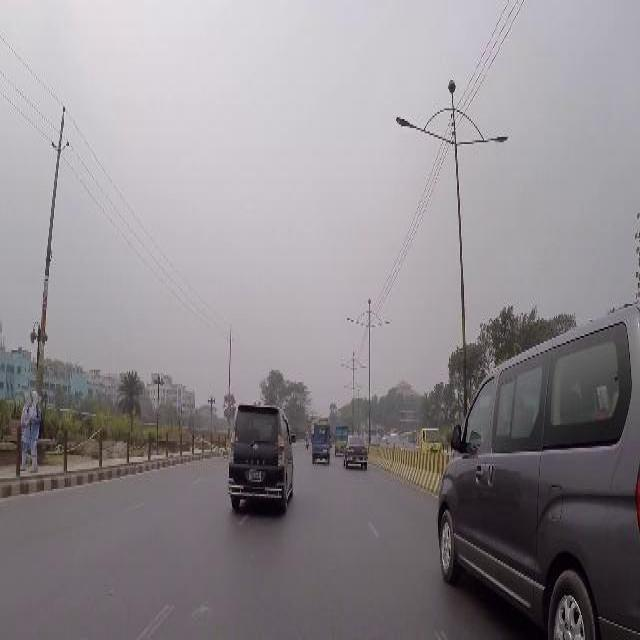bike: (305, 430, 309, 450)
vehicle: (432, 301, 637, 633), (226, 400, 296, 512), (344, 435, 369, 470), (312, 422, 331, 463), (416, 427, 442, 453), (335, 423, 349, 457)
